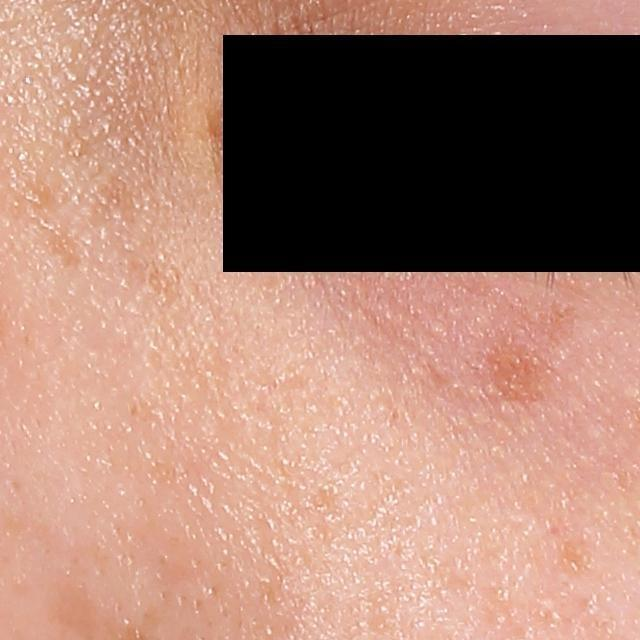melasma: (481, 334, 554, 406), (556, 522, 605, 587), (126, 251, 190, 298), (47, 227, 85, 269)
